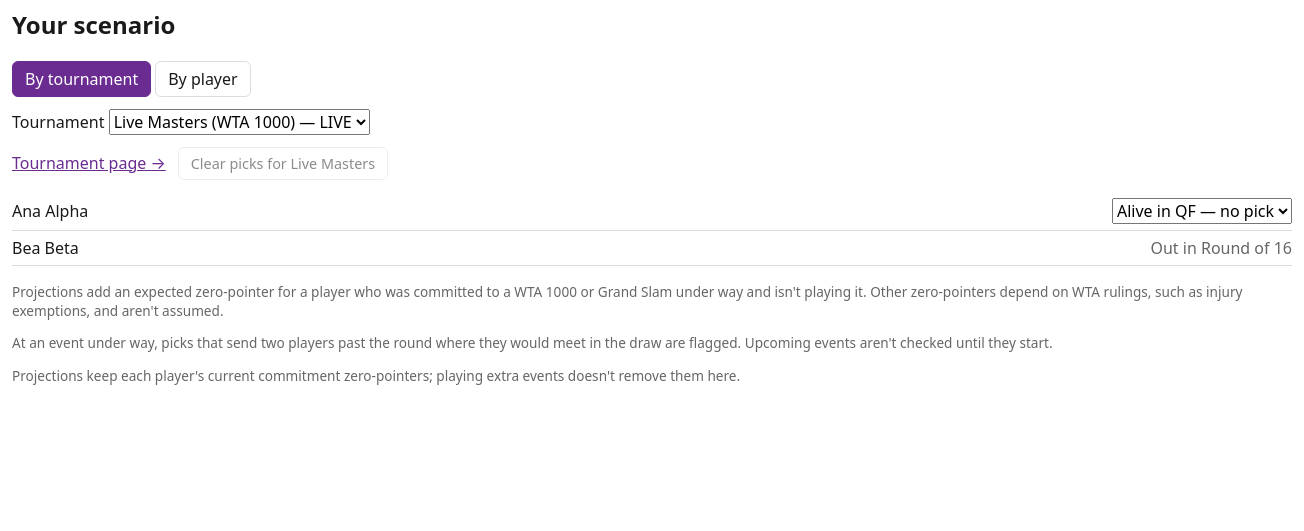
Test: ScenarioEditor › by player: labels each event with its type
Step 1. Click the tab "By player" → (203, 79), box x1=155 y1=61 x2=251 y2=97
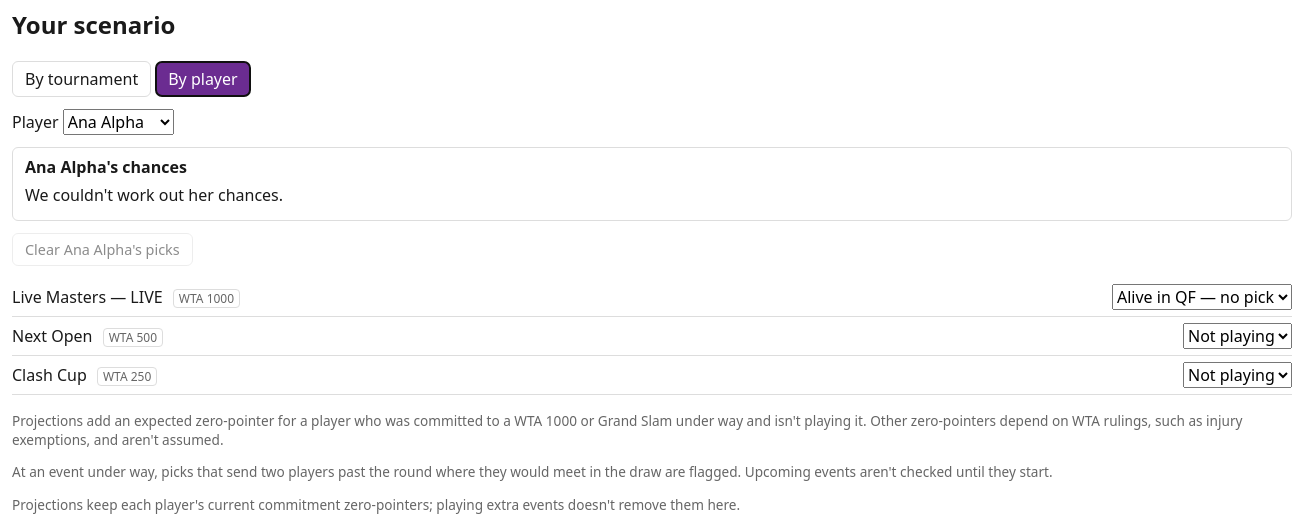
Result: the list item "Next Open" shows "WTA 500" at x1=109 y1=329 x2=157 y2=346
Result: the list item "Live Masters — LIVE" shows "WTA 1000" at x1=179 y1=290 x2=234 y2=307
